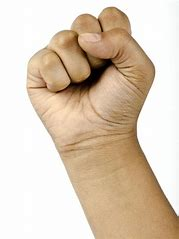closed: (25, 6, 156, 147)
